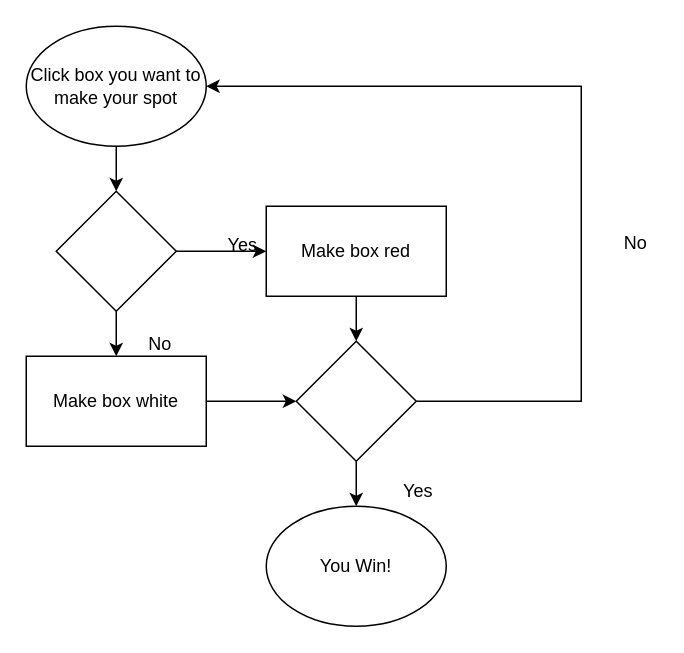
Image size: 684x653. Some labels were removed from this diagram. The shapes that lost their labels are listed below. From the top down, each one's centre as x and y in pixels, then its label:
the point at 115,250: Is amount of clicks even?
the point at 355,400: Are there three colors in a row?
